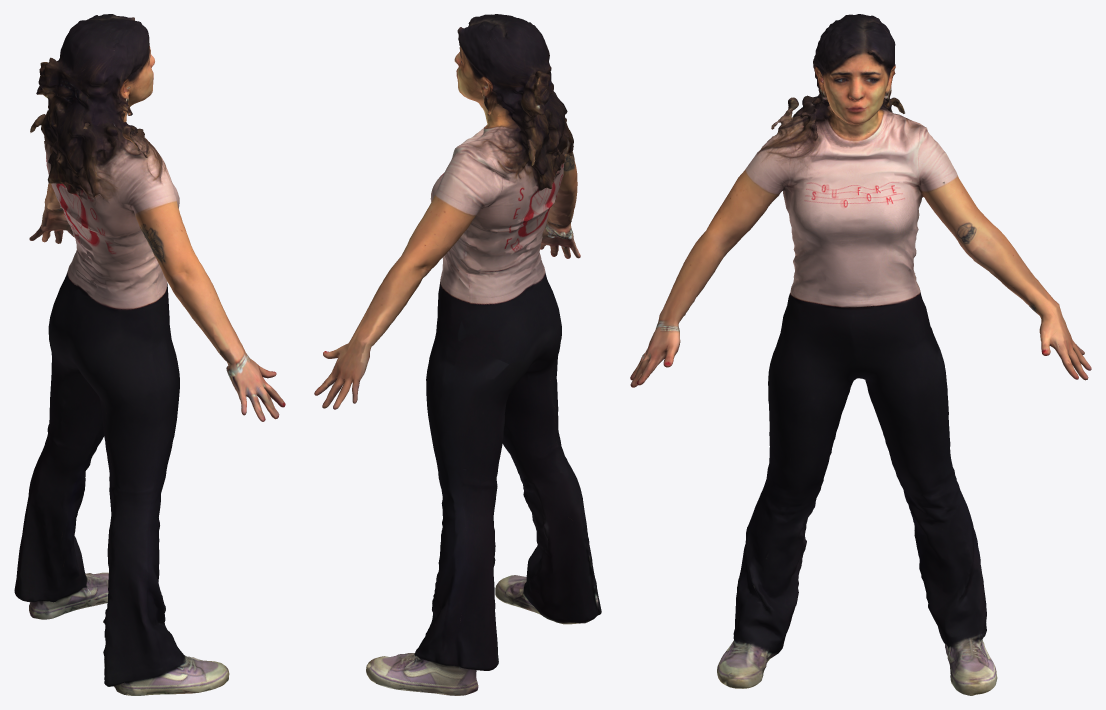
3 renders of one model, left to right at view 1: azimuth 30°, elevation 25°; view 2: azimuth 150°, elevation 25°; view 3: azimuth 270°, elevation 25°, orthographic.
Parts seen in each view (by area): view 1: 7b51f75_00044; view 2: 7b51f75_00044; view 3: 7b51f75_00044.
Part boxes in pixels (x1,y1,x2,y2): 7b51f75_00044: (14,14,285,695); 7b51f75_00044: (314,14,601,695); 7b51f75_00044: (630,14,1091,695).
Bounding box in the file's own units: 371 × 1569 × 1030.
Materials: 1 (1 with a texture image).
